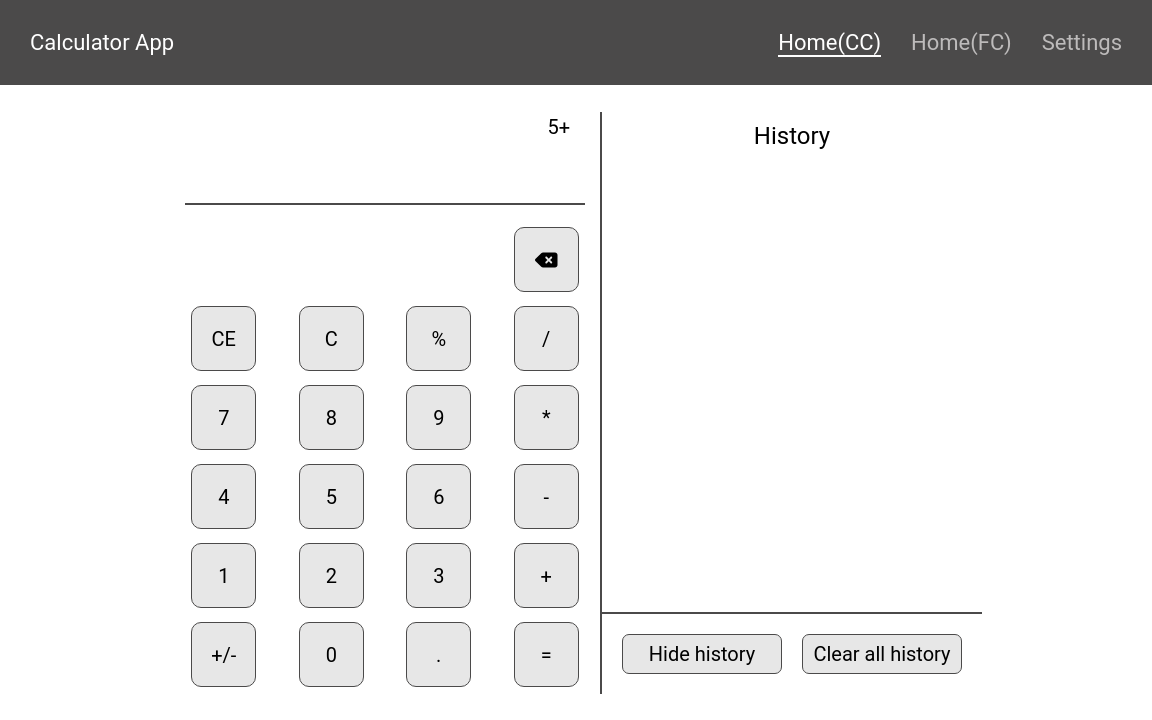
Home CC E2E › should perform addition of two numbers
Click the text with test id "btn2": click(332, 576) [299,543,364,608]
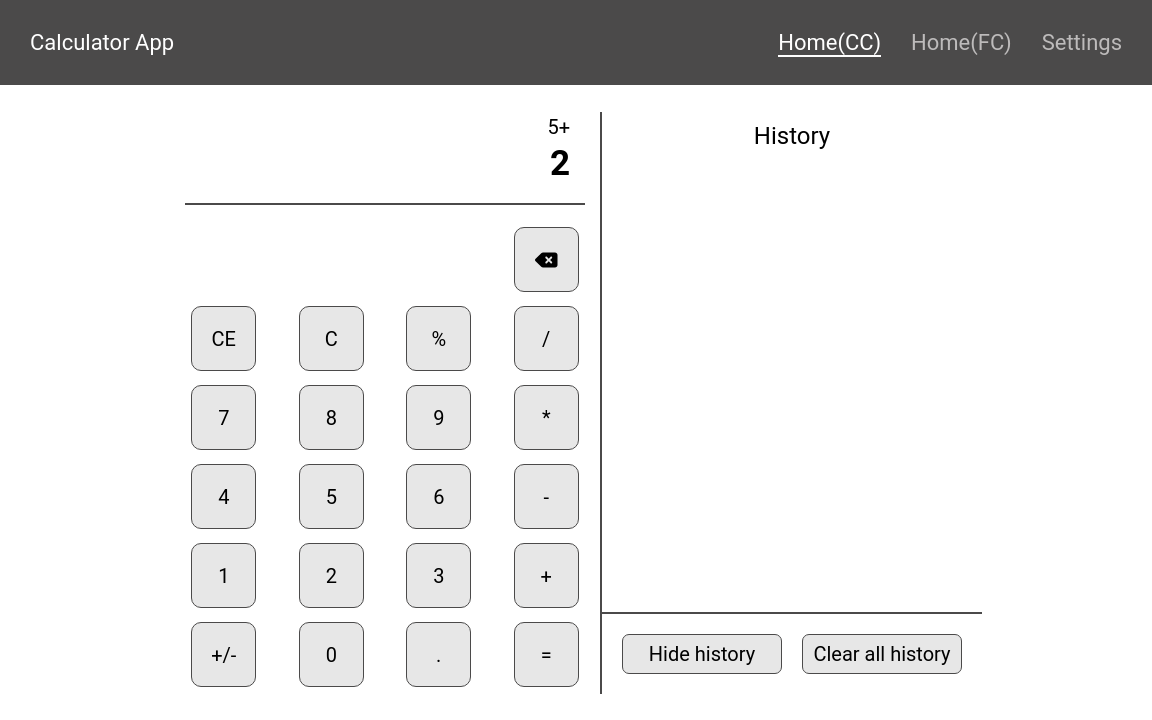
Click the text with test id "btn=": click(547, 655) [514,622,579,687]
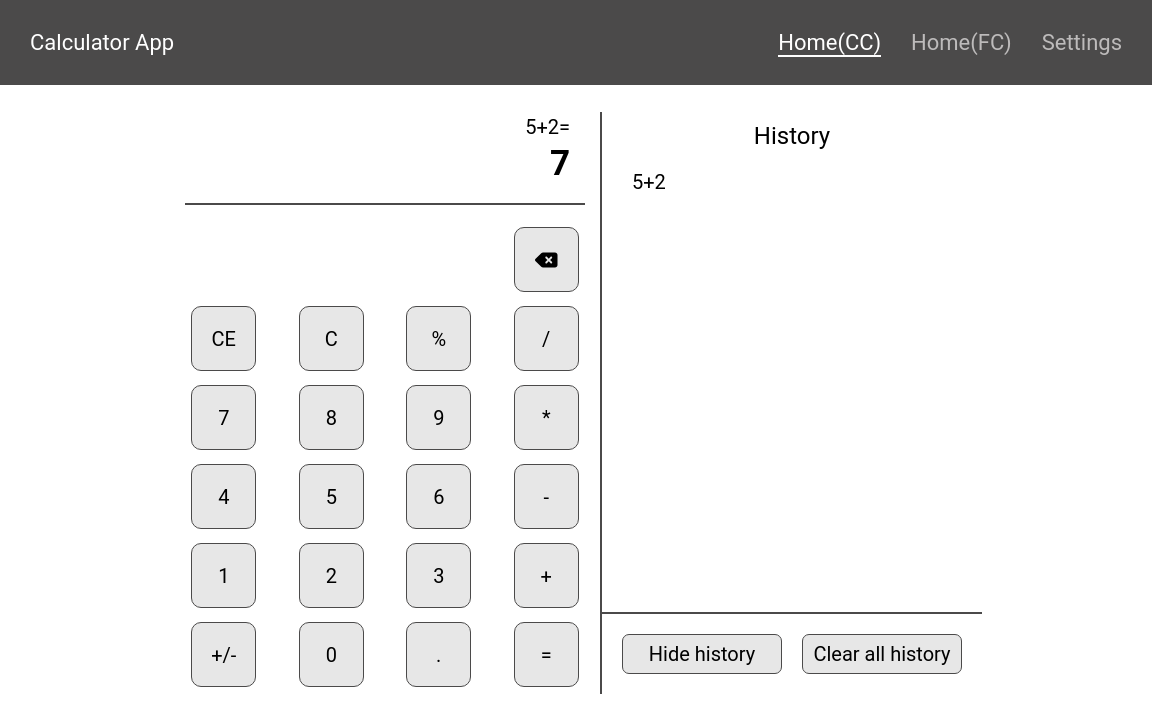
Expected: the text with test id "displayExpr" reads "5+2=", [525,115,570,138]
Expected: the text with test id "displayInput" reads "7", [550,143,570,184]
